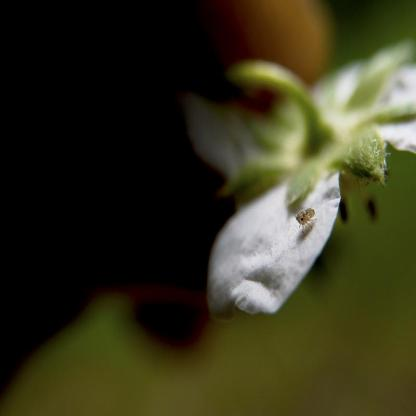aphid: (293, 198, 318, 242)
